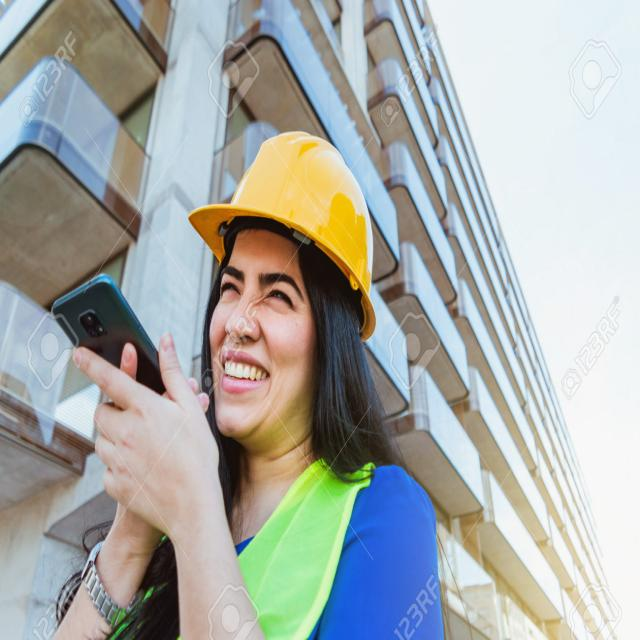helmet: (189, 122, 383, 320)
no-goggles: (200, 236, 338, 325)
vest: (223, 442, 383, 638)
